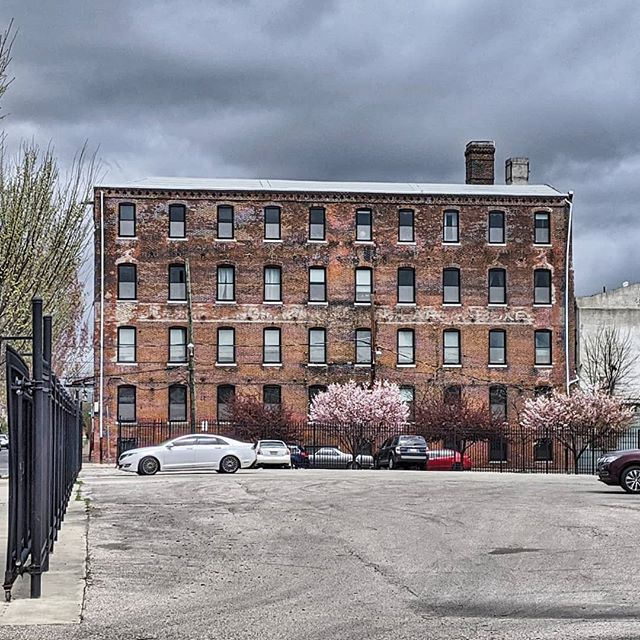building: (97, 180, 568, 470)
car: (112, 424, 261, 478), (371, 427, 426, 470), (252, 436, 291, 468)
sky: (1, 1, 637, 171)
tree: (302, 377, 411, 465), (511, 388, 620, 476), (406, 394, 515, 482)
